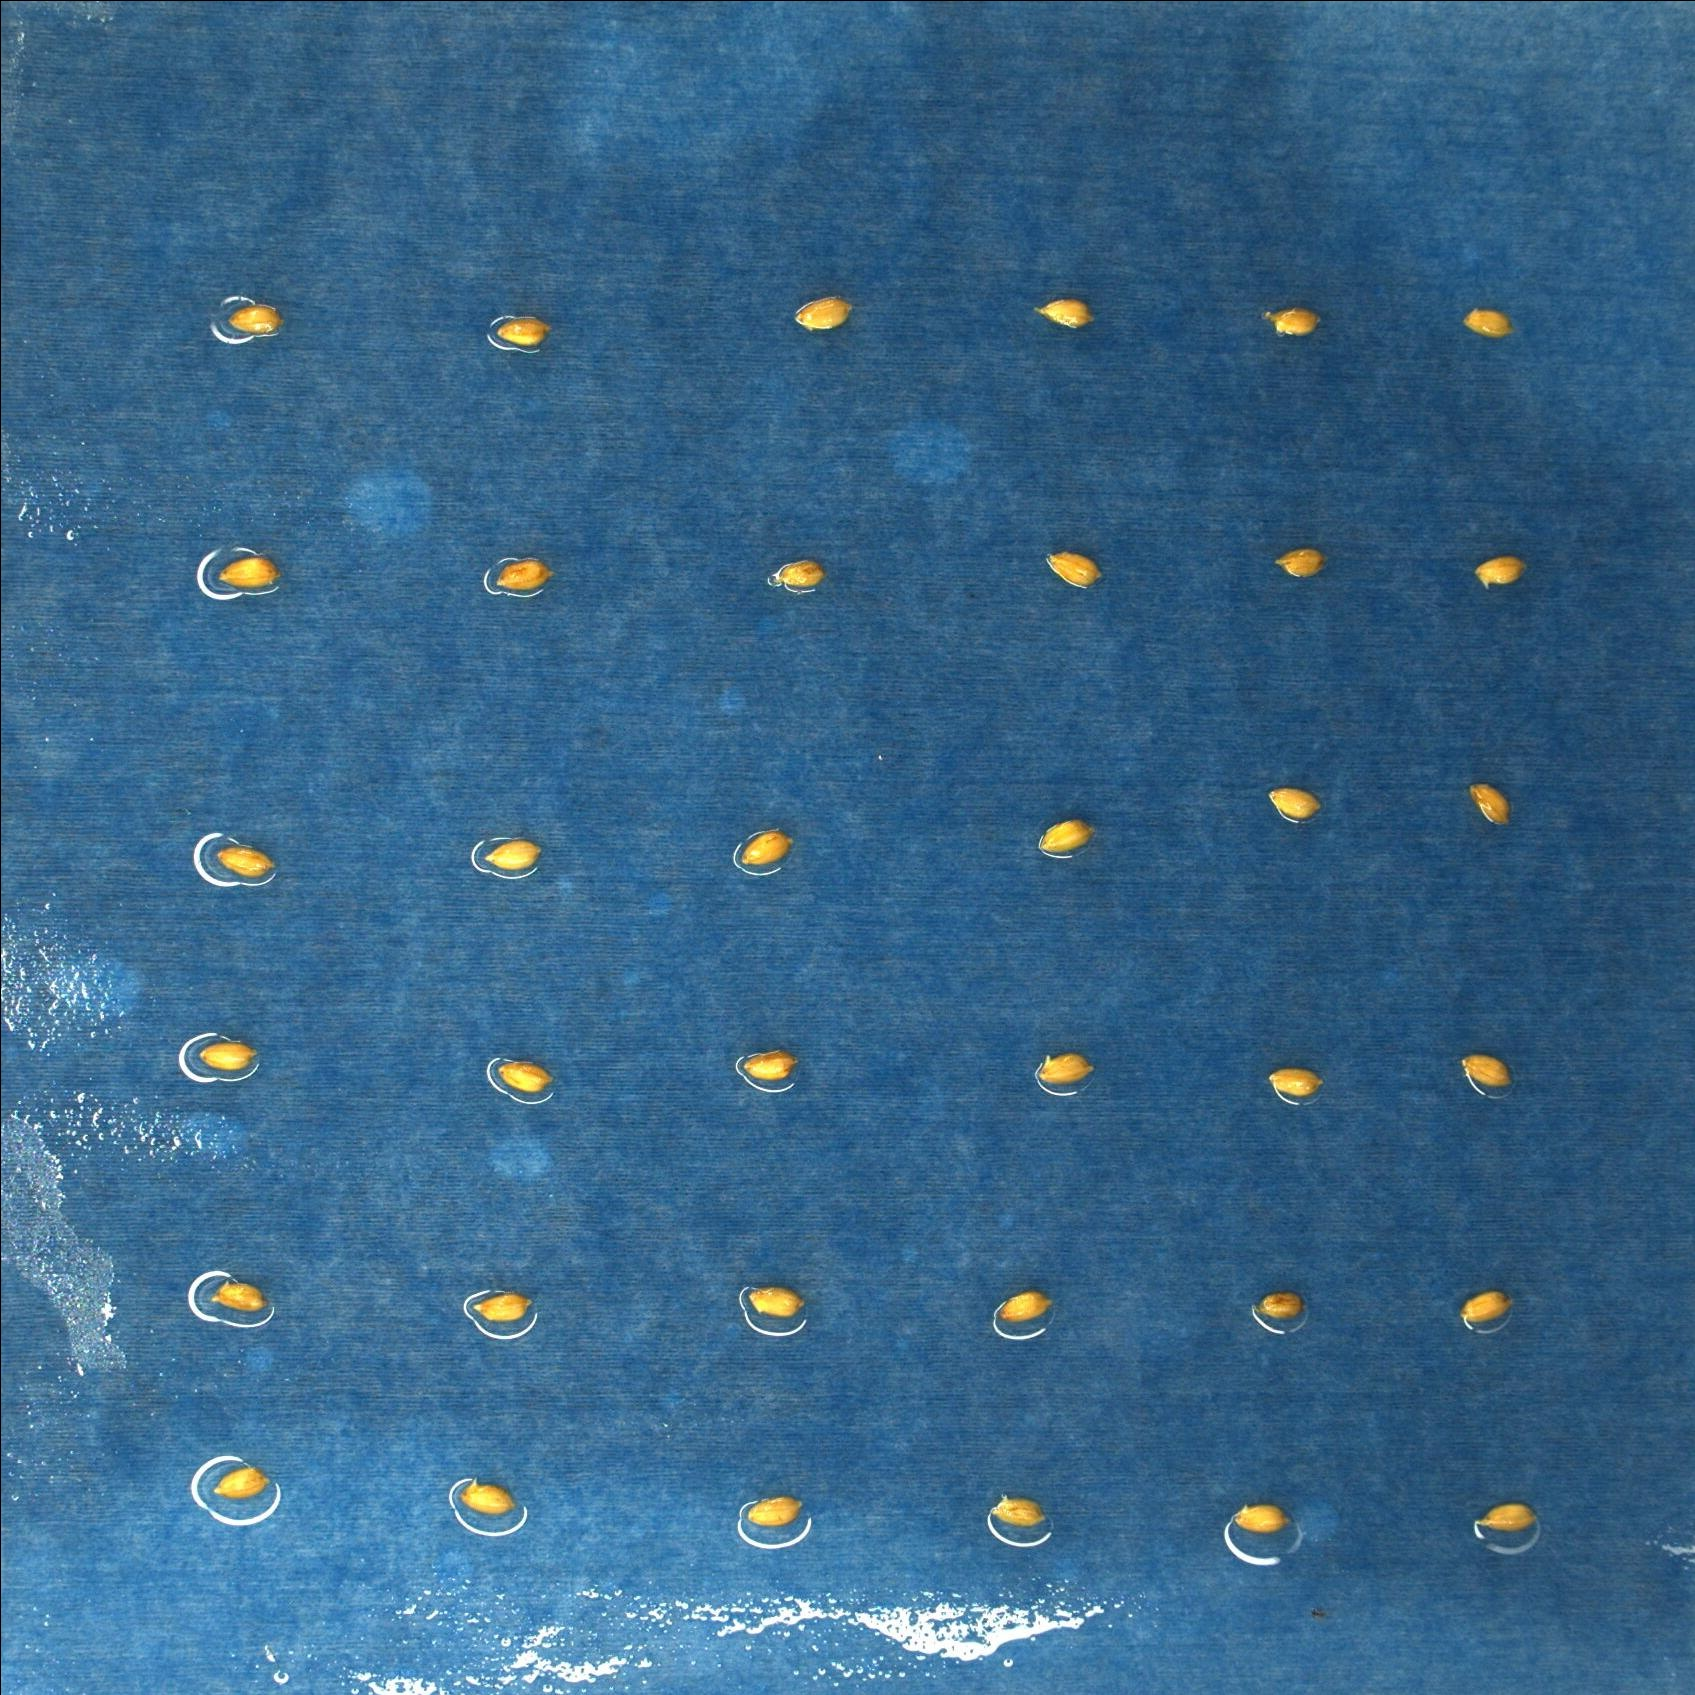not sprout: (795, 293, 855, 334), (210, 1274, 270, 1315), (1046, 551, 1104, 591), (458, 1478, 517, 1516), (214, 1464, 272, 1503), (495, 557, 556, 593), (216, 843, 276, 879), (995, 1290, 1055, 1326), (1038, 818, 1097, 854), (1467, 782, 1513, 827), (1475, 1501, 1538, 1534), (199, 1040, 259, 1074), (1037, 296, 1094, 332), (747, 1495, 804, 1530), (990, 1495, 1048, 1530), (217, 557, 282, 588), (740, 832, 796, 868), (1459, 1054, 1515, 1090), (748, 1285, 807, 1318), (1268, 787, 1324, 821), (472, 1291, 532, 1322), (486, 840, 543, 872), (1263, 306, 1322, 337), (1038, 1052, 1097, 1083), (1232, 1504, 1291, 1535), (1461, 307, 1516, 340), (498, 1062, 554, 1094), (1475, 554, 1527, 588), (1461, 1290, 1513, 1324), (1268, 1066, 1326, 1097), (744, 1048, 798, 1080), (1274, 546, 1327, 579), (227, 304, 284, 334), (495, 317, 549, 345), (775, 559, 826, 588), (1254, 1291, 1305, 1321)
